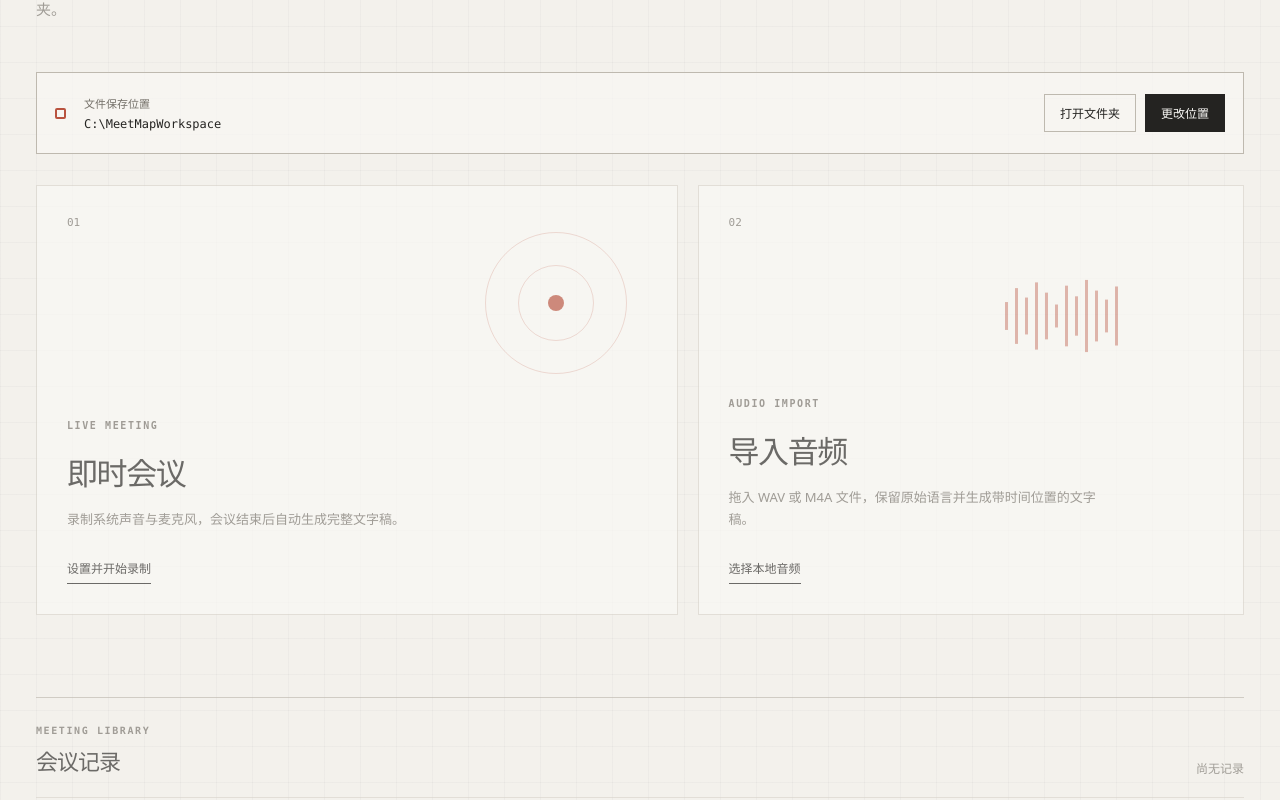
Test: keeps audio setup before starting a live recording
(page scrolled)
Click the button "01 LIVE MEETING 即时会议 录制系统声音与麦克风，会议结束后自动生成完整文字稿。 设置并开始录制": (357, 400) [36,186,678,616]
(page scrolled)
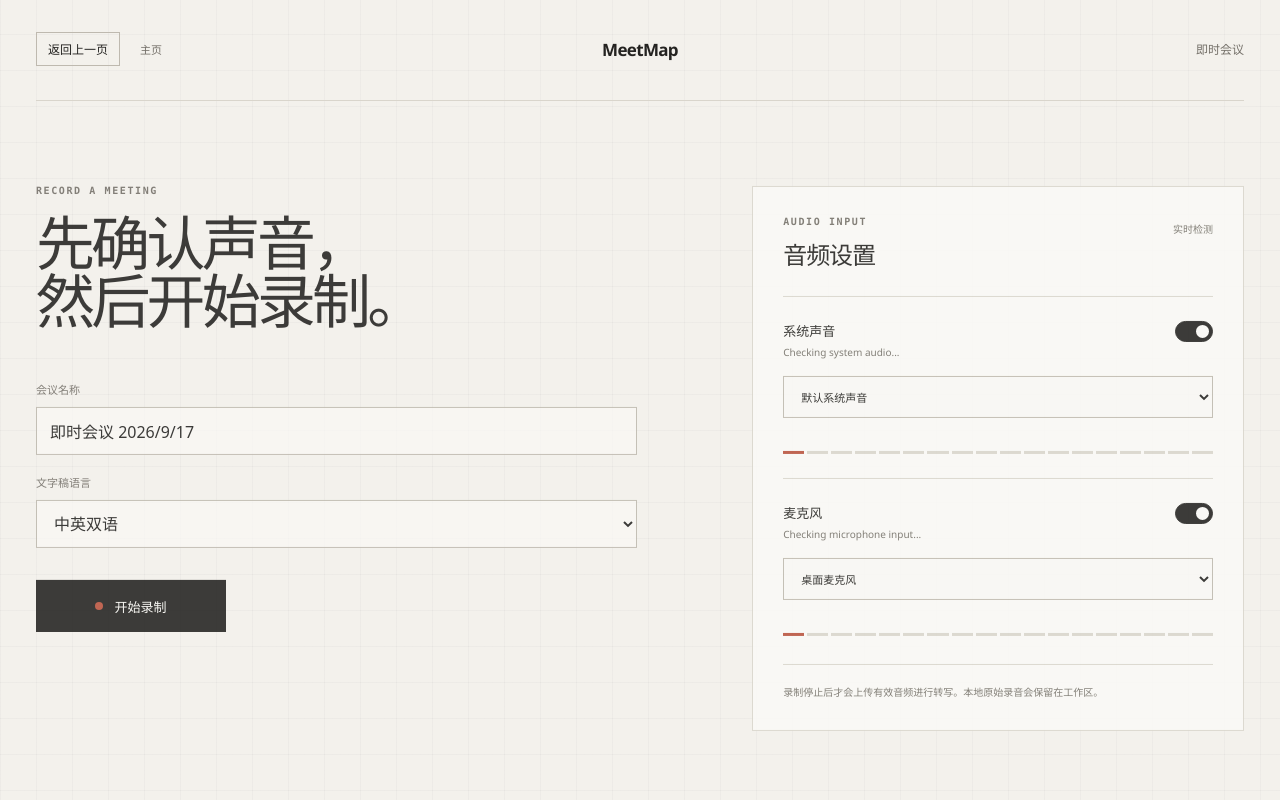
Now the heading "先确认声音，然后开始录制。" is shown, box [36,203,423,341]
Now the heading "音频设置" is shown, box [783,236,875,272]
Click the button "开始录制": (131, 606) [36,580,226,632]
(page scrolled)
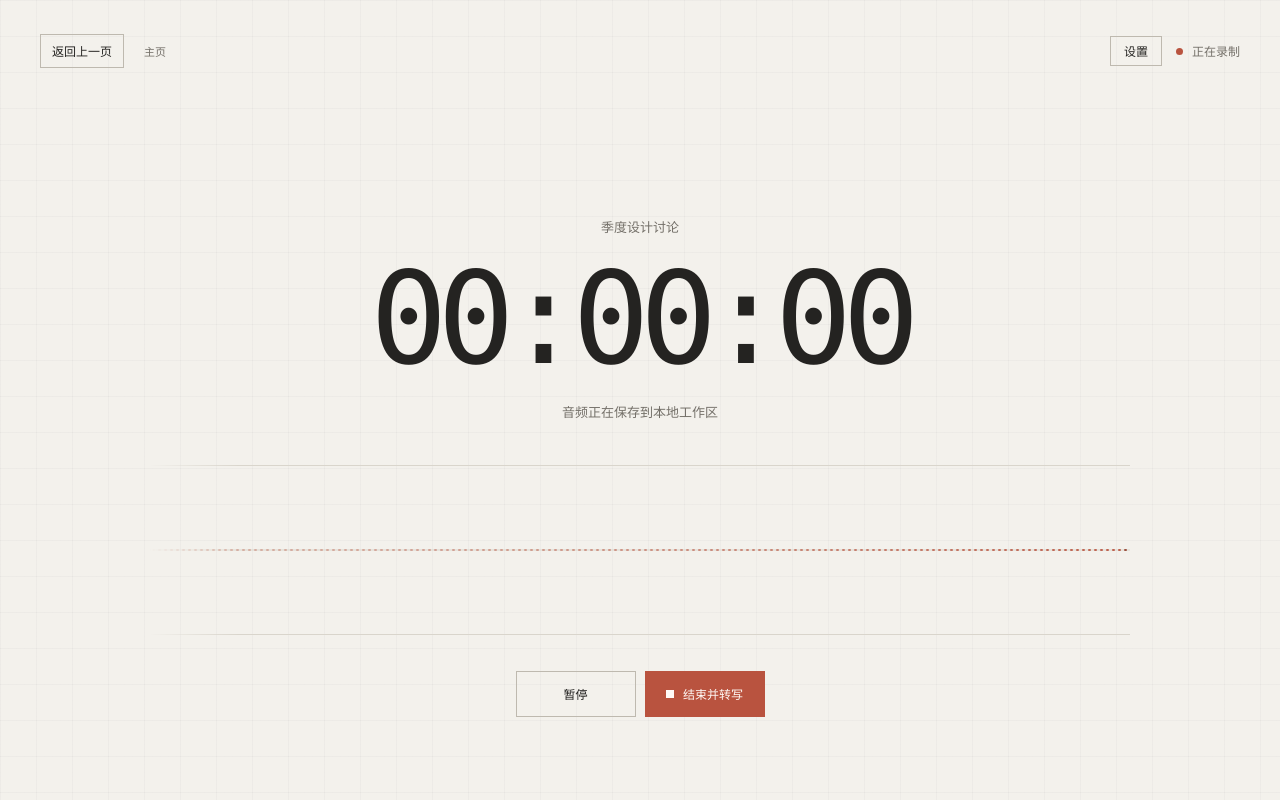
Now the text "正在录制" is shown, box [1176,42,1240,60]
Now the button "结束并转写" is shown, box [644,670,764,716]
